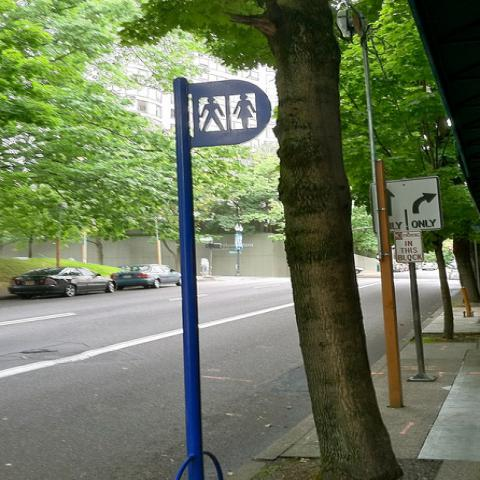car: (8, 266, 117, 300), (110, 264, 182, 290)
